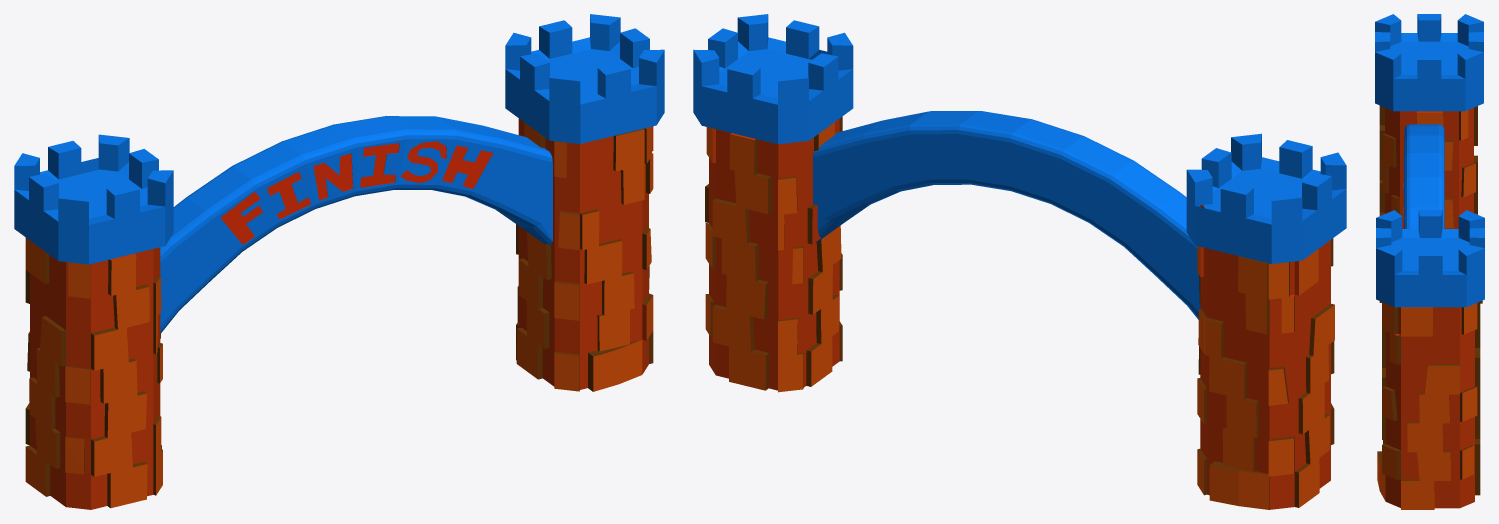
The model's file is finish line4.fbx.
3 renders of one model, left to right at view 1: azimuth 30°, elevation 25°; view 2: azimuth 150°, elevation 25°; view 3: azimuth 270°, elevation 25°, orthographic. The views are drawn at different scales.
Visible parts, largest first — view 1: Circle_Finish Writing_1; view 2: Circle_Finish Writing_1; view 3: Circle_Finish Writing_1.
Part boxes in pixels (bbox=[...]): Circle_Finish Writing_1: bbox=[14, 14, 664, 509]; Circle_Finish Writing_1: bbox=[693, 14, 1346, 509]; Circle_Finish Writing_1: bbox=[1375, 14, 1484, 509].
Size of the model in its own units: 1287 by 637 by 247.
